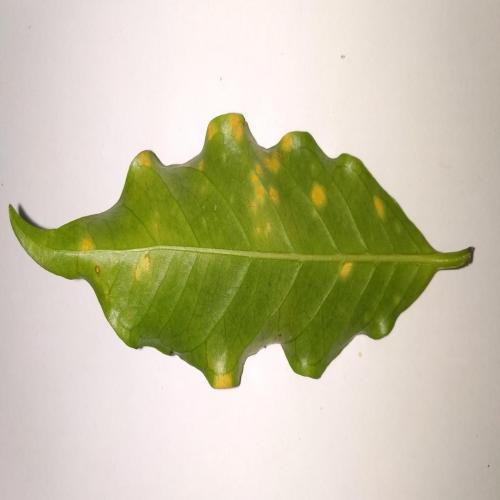phoma: (227, 113, 244, 141)
